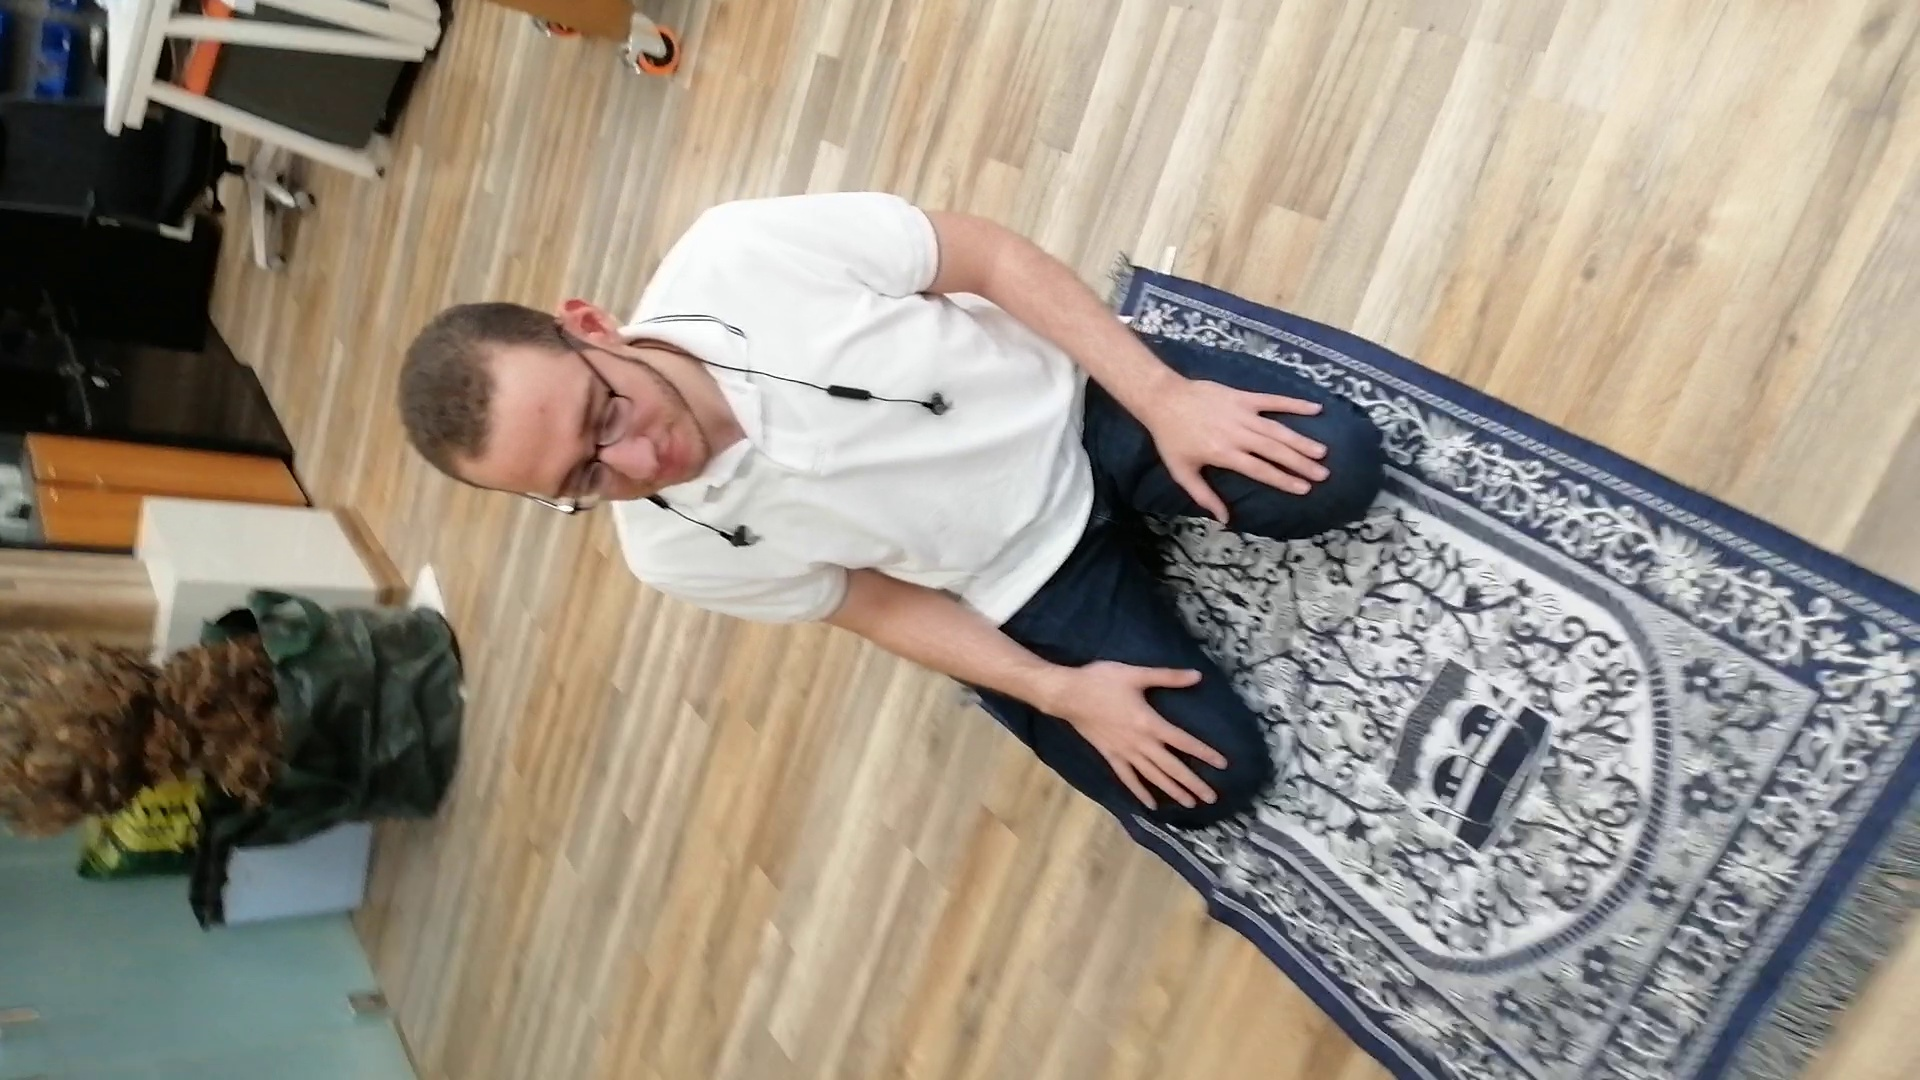sitting: (382, 179, 1399, 848)
